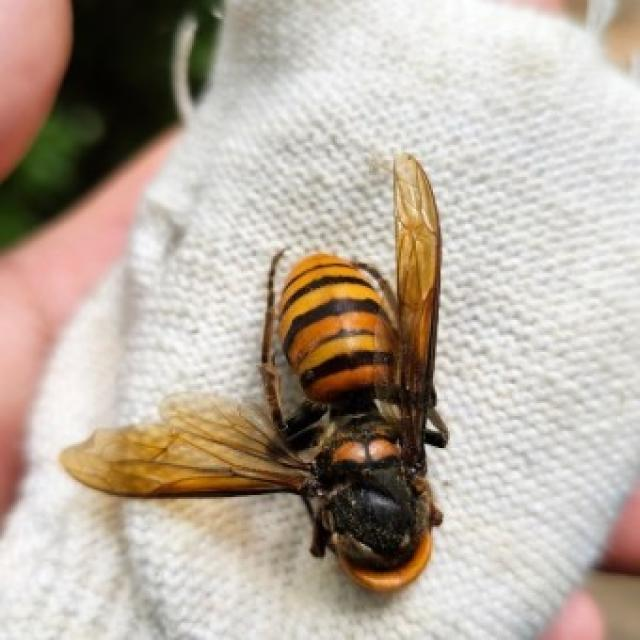Wasp: (74, 150, 457, 600)
